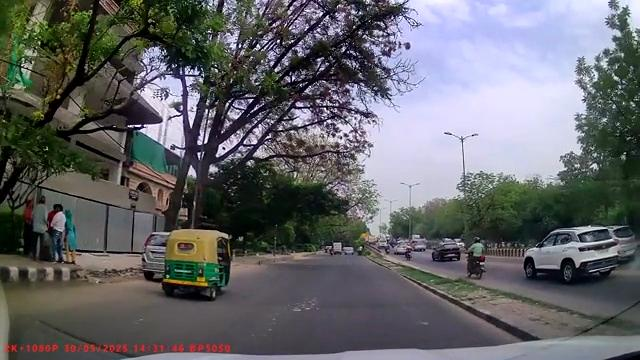motorcycle_with_helmet: (466, 236, 487, 280)
